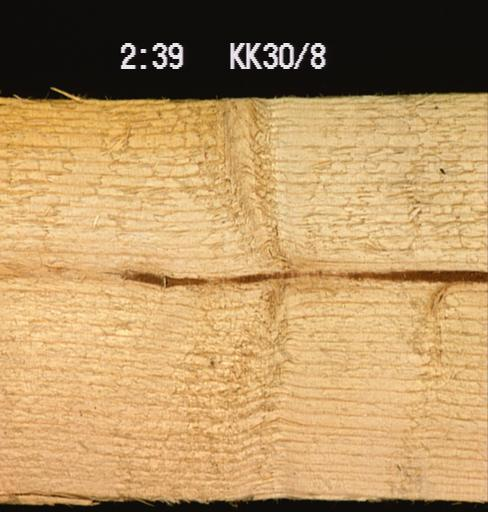split: (67, 257, 484, 286), (0, 484, 101, 499)
